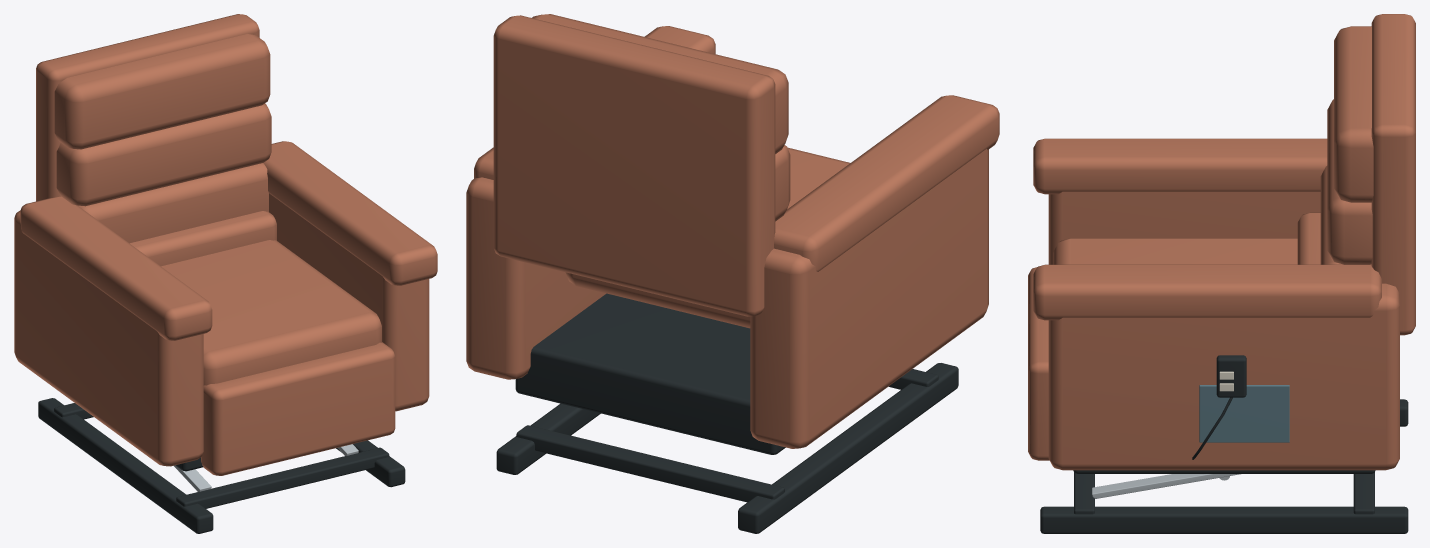
The model's file is lift-recliner.glb.
The picture shows the model from 3 angles, left to right: view 1: azimuth 30°, elevation 25°; view 2: azimuth 150°, elevation 25°; view 3: azimuth 270°, elevation 25°; orthographic projection. The views are drawn at different scales.
Visible parts, largest first — view 1: catalog_surface_RealismUV, catalog_surface_UVMap; view 2: catalog_surface_RealismUV, catalog_surface_UVMap; view 3: catalog_surface_RealismUV, catalog_surface_UVMap.
Part boxes in pixels (x1=…): catalog_surface_RealismUV: x1=14, y1=14, x2=437, y2=491; catalog_surface_UVMap: x1=38, y1=398, x2=405, y2=533; catalog_surface_RealismUV: x1=466, y1=14, x2=999, y2=448; catalog_surface_UVMap: x1=496, y1=293, x2=958, y2=533; catalog_surface_RealismUV: x1=1028, y1=14, x2=1415, y2=498; catalog_surface_UVMap: x1=1040, y1=355, x2=1408, y2=533.
Size of the model in its own units: 0.91 by 1.09 by 0.94.
